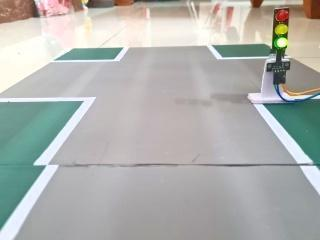green: (267, 3, 298, 60)
